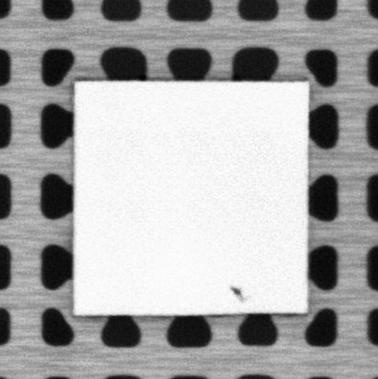DIE_INK: (229, 284, 243, 302)
